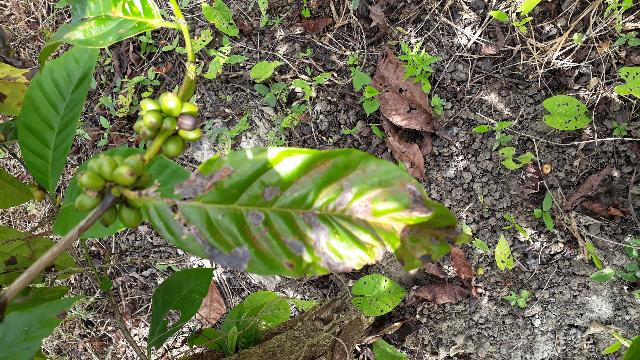red_spider_mite: (144, 147, 473, 278)
